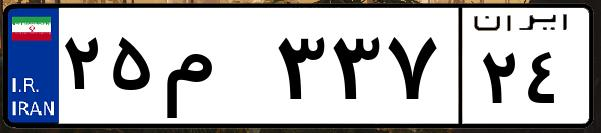2: (57, 26, 110, 100), (475, 38, 525, 113)
3: (270, 28, 330, 110), (330, 28, 385, 110)
4: (525, 38, 570, 115)
5: (110, 28, 158, 98)
7: (385, 28, 445, 110)
م: (158, 20, 270, 120)
